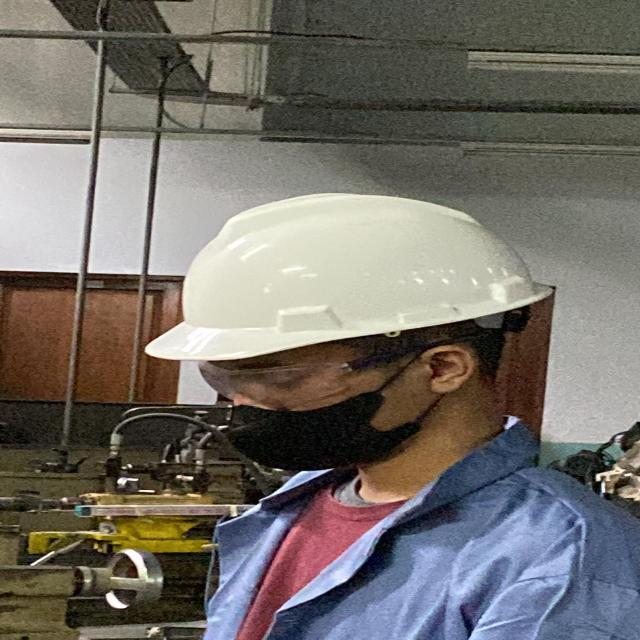glasses: (190, 340, 416, 410)
